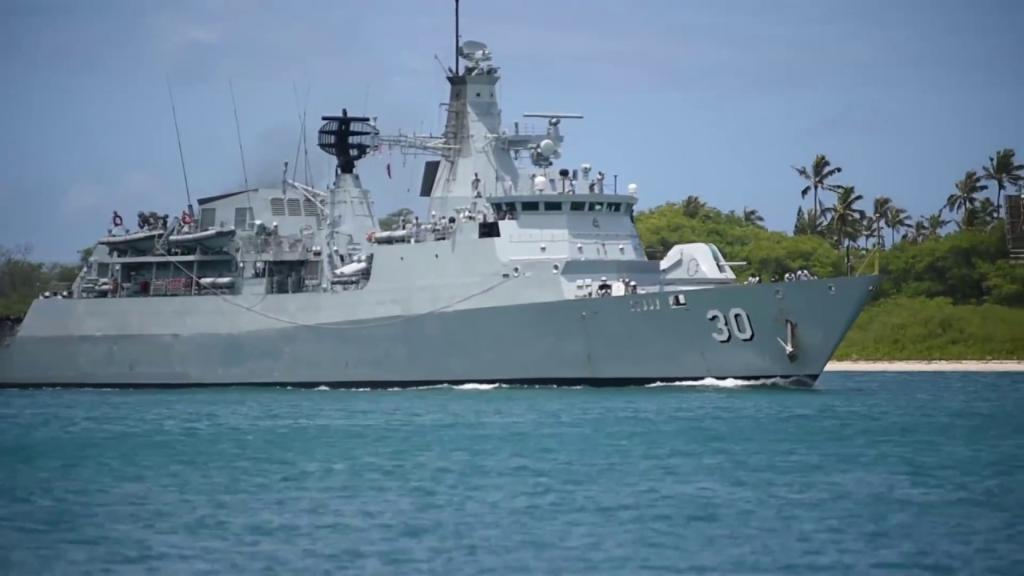Warship: (0, 0, 894, 398)
